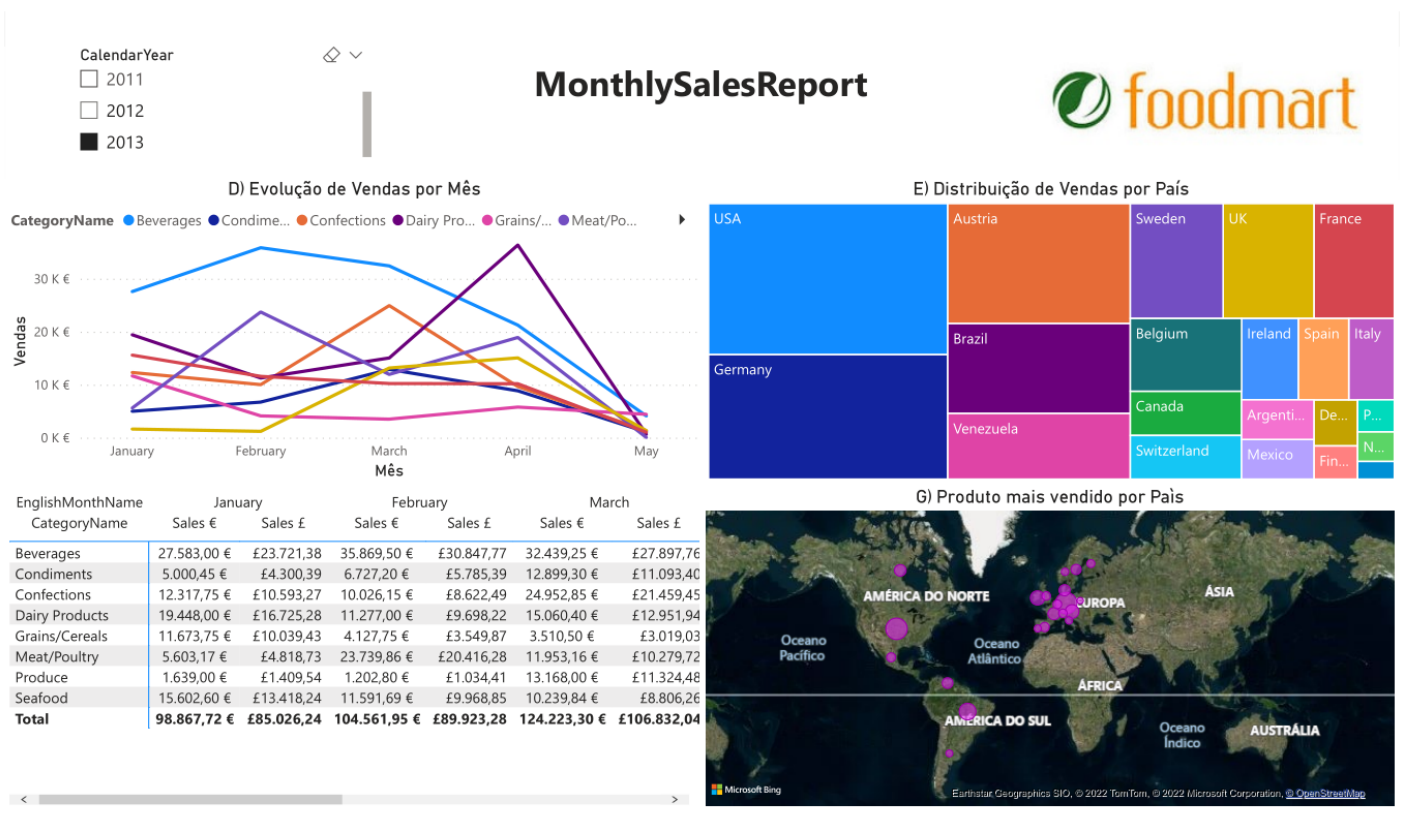

This screenshot's page, from the dashboard's own definition file:
{"tool":"powerbi","page":{"name":"MonthlySalesReport","canvas":[1280,720],"ordinal":0},"visuals":[{"type":"slicer","fields":{"Values":["D_Time.CalendarYear"]},"box":[57.2,13.2,284.7,112.1],"z":0},{"type":"textbox","box":[460.1,24.8,358.9,117.4],"z":1000},{"type":"image","box":[925.9,2.9,354.1,133.6],"z":2000},{"type":"lineChart","title":"D) Evolução de Vendas por Mês","fields":{"Y":["Sum(F_Sales_Month.Sales_Amount)"],"Category":["D_Time.EnglishMonthName"],"Series":["D_Product.CategoryName"]},"box":[1.5,139.6,640,282.1],"z":3000},{"type":"treemap","title":"E) Distribuição de Vendas por País","fields":{"Group":["D_Customer.Country"],"Values":["Sum(F_Sales_Month.Sales_Qty)"]},"box":[641.5,139.6,638.5,282.1],"z":4000},{"type":"pivotTable","fields":{"Values":["Sum(F_Sales_Month.Sales_Amount)","Sum(F_Sales_Month.Libras)"],"Rows":["D_Product.CategoryName"],"Columns":["D_Time.EnglishMonthName"]},"box":[0,422.1,642.3,297.6],"z":5000},{"type":"map","title":"G) Produto mais vendido por Paìs","fields":{"Category":["YearProdSales.Country"],"Size":["Sum(YearProdSales.Sales Amount)"]},"box":[639.2,422.1,640.8,299.1],"z":6000}]}

Visuals, with their boxes on the page's 1280x720 design canvas (x1, y1, x2, y2). These are canvas units, not pixel positions in the 1403x830 screenshot, which may show the page scaled, cropped or inside an application window:
slicer - D_Time.CalendarYear: 57/13/342/125
textbox: 460/25/819/142
image: 926/3/1280/136
"D) Evolução de Vendas por Mês" lineChart: 2/140/642/422
"E) Distribuição de Vendas por País" treemap: 642/140/1280/422
pivotTable - Sum(F_Sales_Month.Sales_Amount) x Sum(F_Sales_Month.Libras): 0/422/642/720
"G) Produto mais vendido por Paìs" map: 639/422/1280/721
